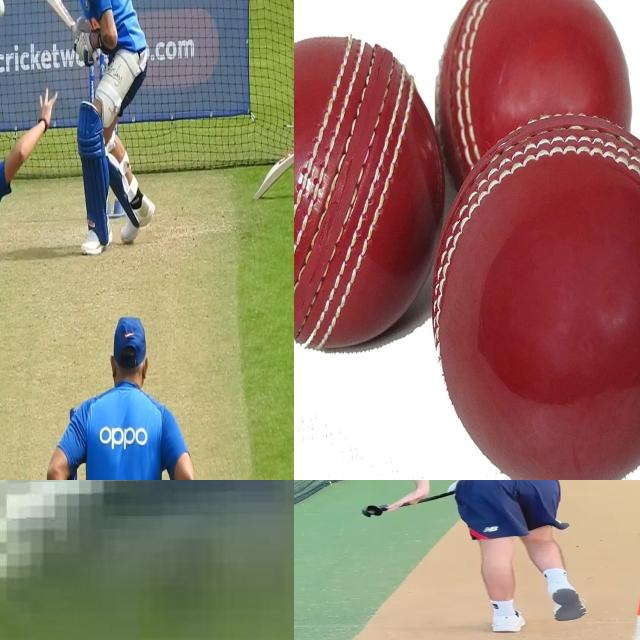Cricket ball: (424, 107, 640, 480), (294, 24, 446, 359), (0, 480, 294, 638), (0, 0, 7, 22)
